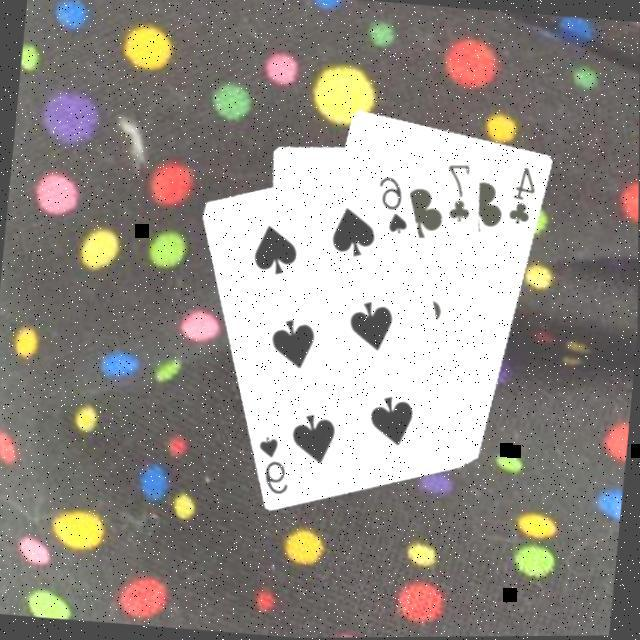4C: (504, 164, 540, 230)
6S: (370, 172, 414, 240), (251, 434, 295, 499)
7C: (439, 160, 476, 228)
